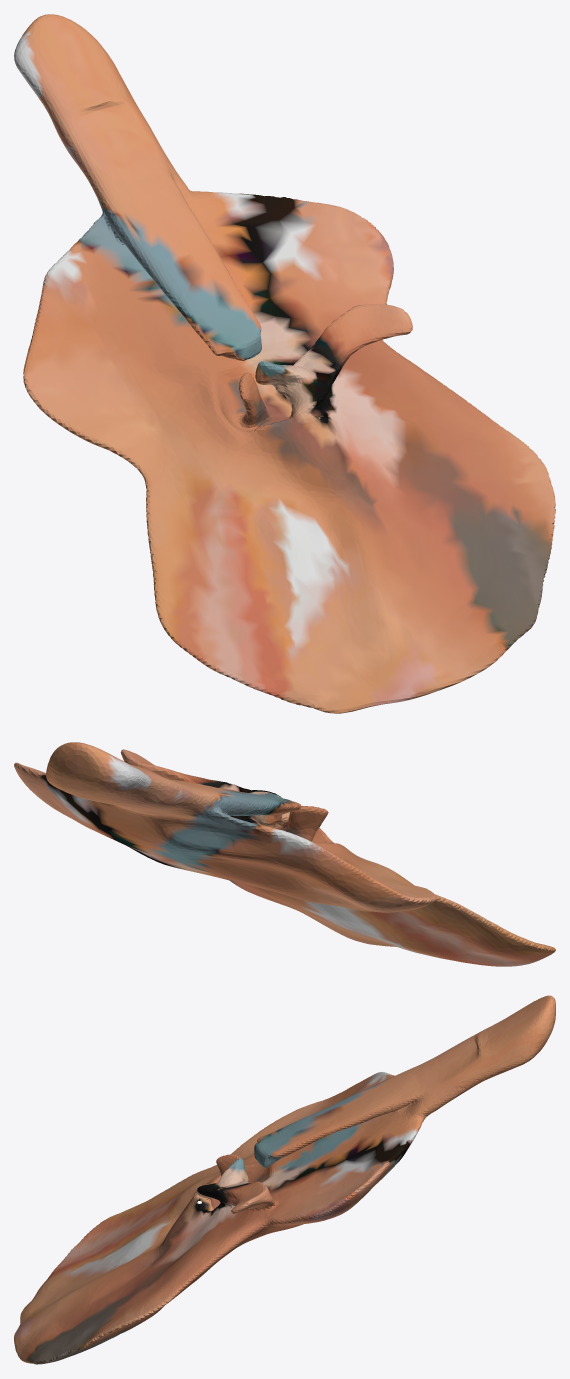
The model's file is violin.glb.
3 views of the same model, one above another, from view 1: azimuth 30°, elevation 25°; view 2: azimuth 150°, elevation 25°; view 3: azimuth 270°, elevation 25° (orthographic). The views are drawn at different scales.
Visible parts, largest first — view 1: geometry_0; view 2: geometry_0; view 3: geometry_0.
Boxes of the visible parts, bbox=[...] form: geometry_0: bbox=[14, 14, 555, 713]; geometry_0: bbox=[14, 742, 555, 966]; geometry_0: bbox=[14, 995, 555, 1364].
Size of the model in its own units: 0.875 by 0.9134 by 1.33.
